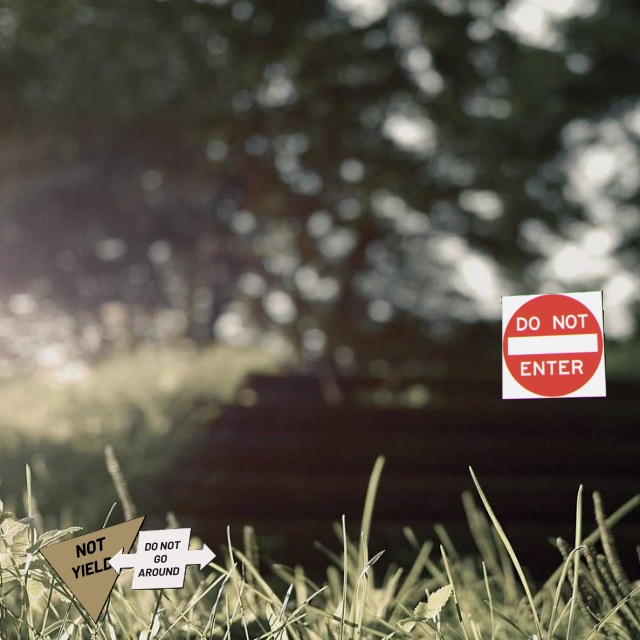DO_NOT_ENTER: (501, 290, 607, 400)
DO_NOT_GO_AROUND: (107, 527, 217, 590)
NOT_YIELD: (37, 514, 147, 624)
